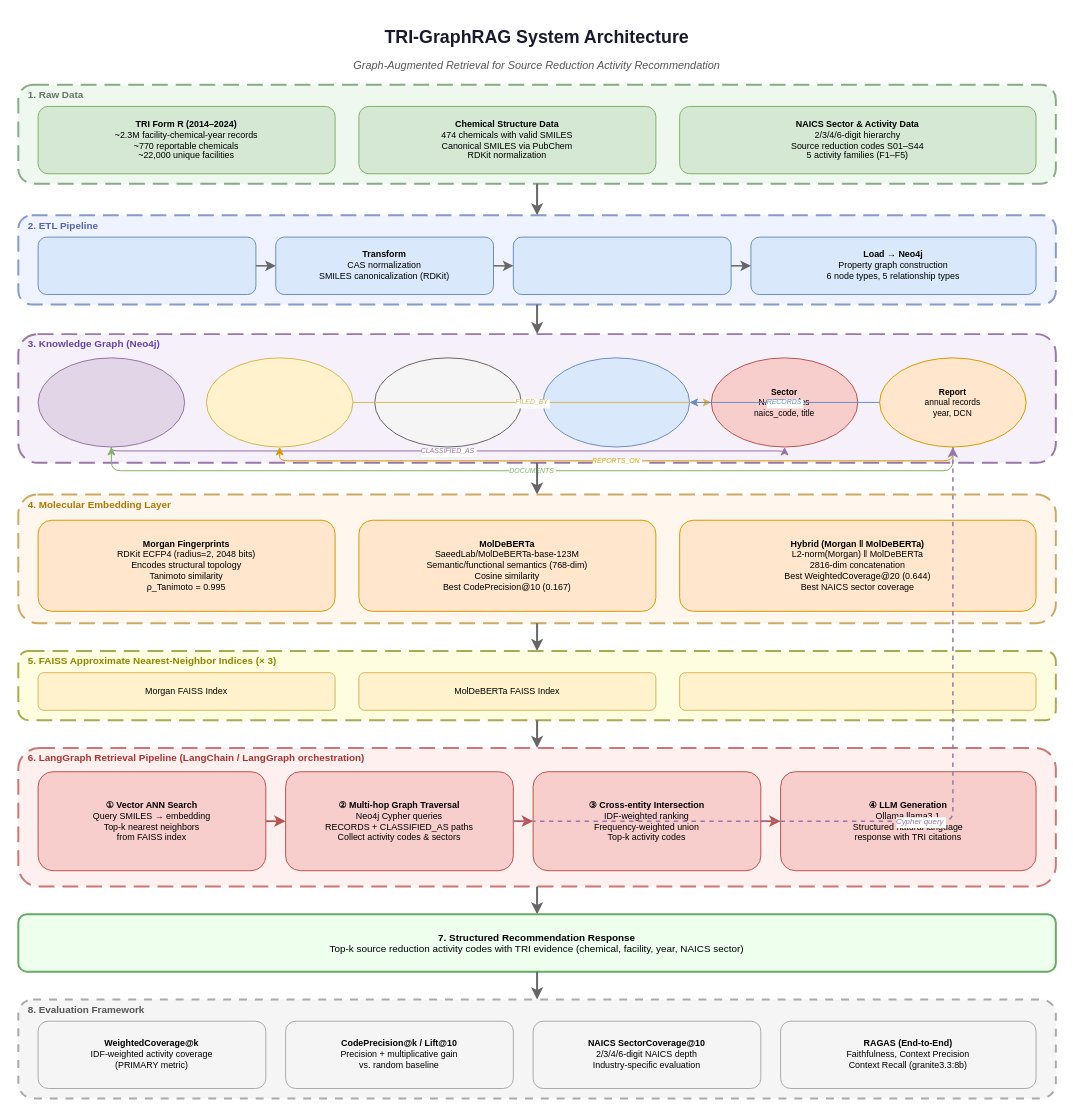
This 1073x1116 diagram has some shape labels left out. The shapes that lost their labels are listed below. From the top down, each one's centre as x and y in pixels, then its label:
At (x=146, y=265): "Ingestion Encoding normalization Multi-year merge".
At (x=621, y=265): "NAICS Hierarchy Expansion 2/3/4/6-digit NAICS linkage Activity taxonomy mapping".
At (x=111, y=402): "Chemical 474 nodes cas_number, SMILES".
At (x=279, y=402): "Facility ~22K nodes trifid, state".
At (x=447, y=402): "Activity 44 codes name, family".
At (x=616, y=402): "Reduction records code, name".
At (x=857, y=691): "Hybrid FAISS Index".
